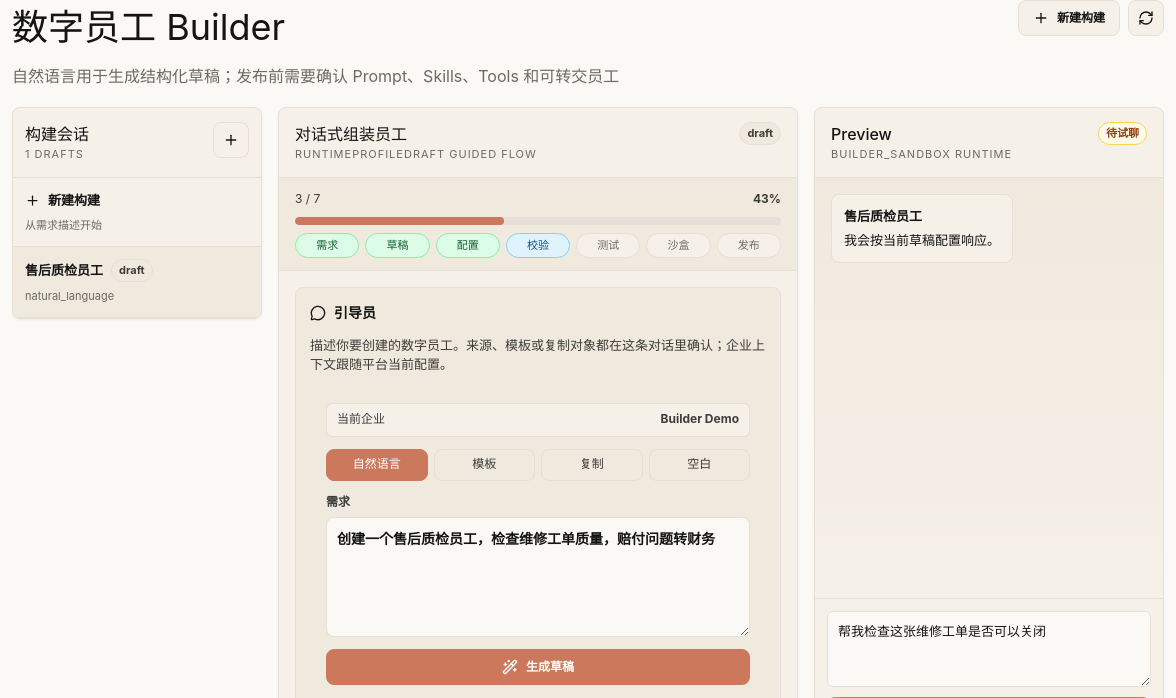
Test: AgentBuilder page › sends sandbox messages through the builder runtime API
Replace the text in the text box showing "帮我检查这张维修工单是否可以关闭" with "测试一下草稿回复": (989, 649) [827, 611, 1151, 687]
(page scrolled)
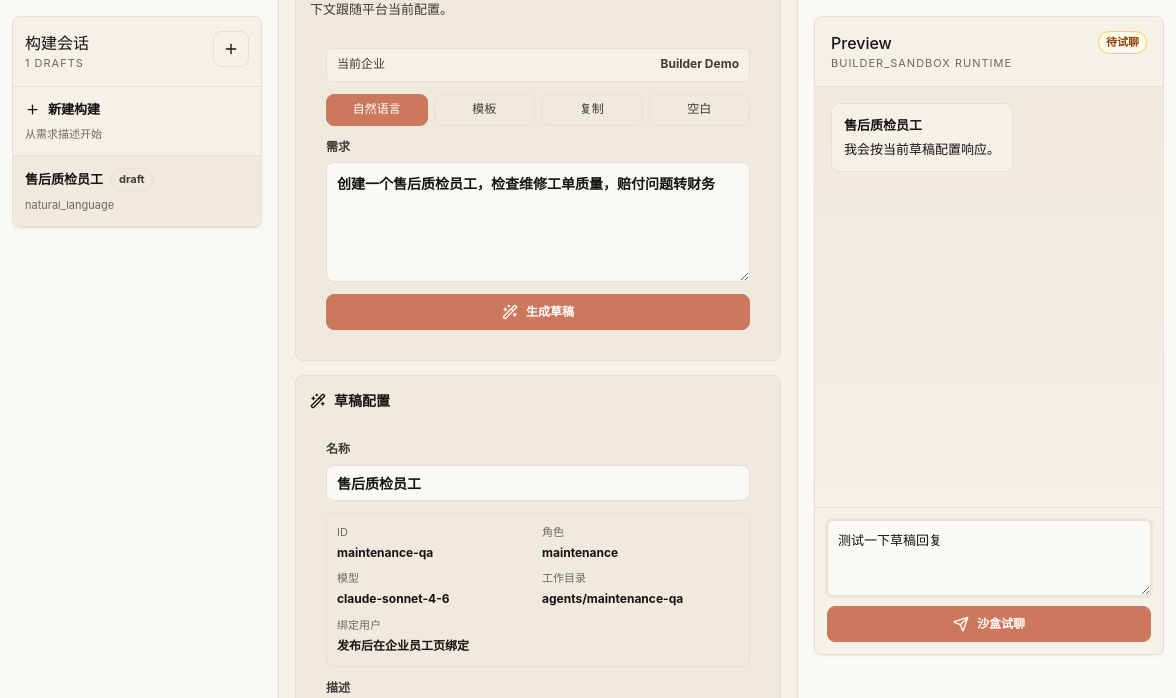
Click the button "沙盒试聊": (989, 625) [827, 607, 1151, 643]
(page scrolled)
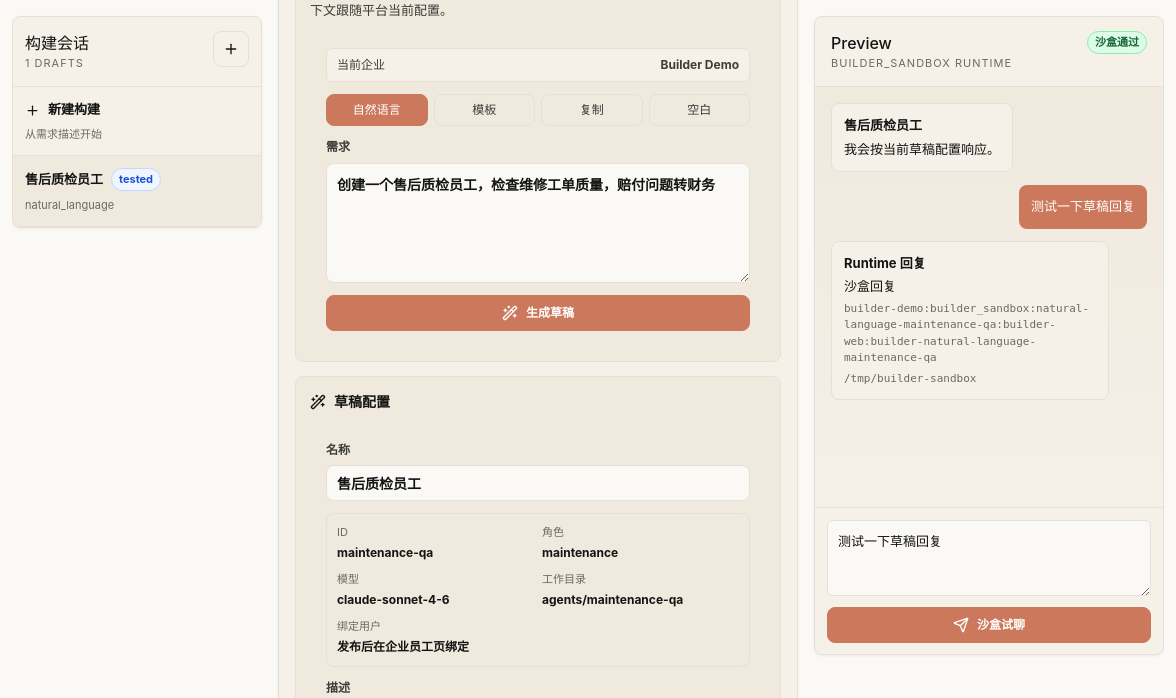
Now the text "沙盒回复" is shown, box [844, 278, 896, 294]
Now the text "builder-demo:builder_sandbox" is shown, box [844, 301, 1089, 364]
Now the text "/tmp/builder-sandbox" is shown, box [844, 371, 976, 384]
